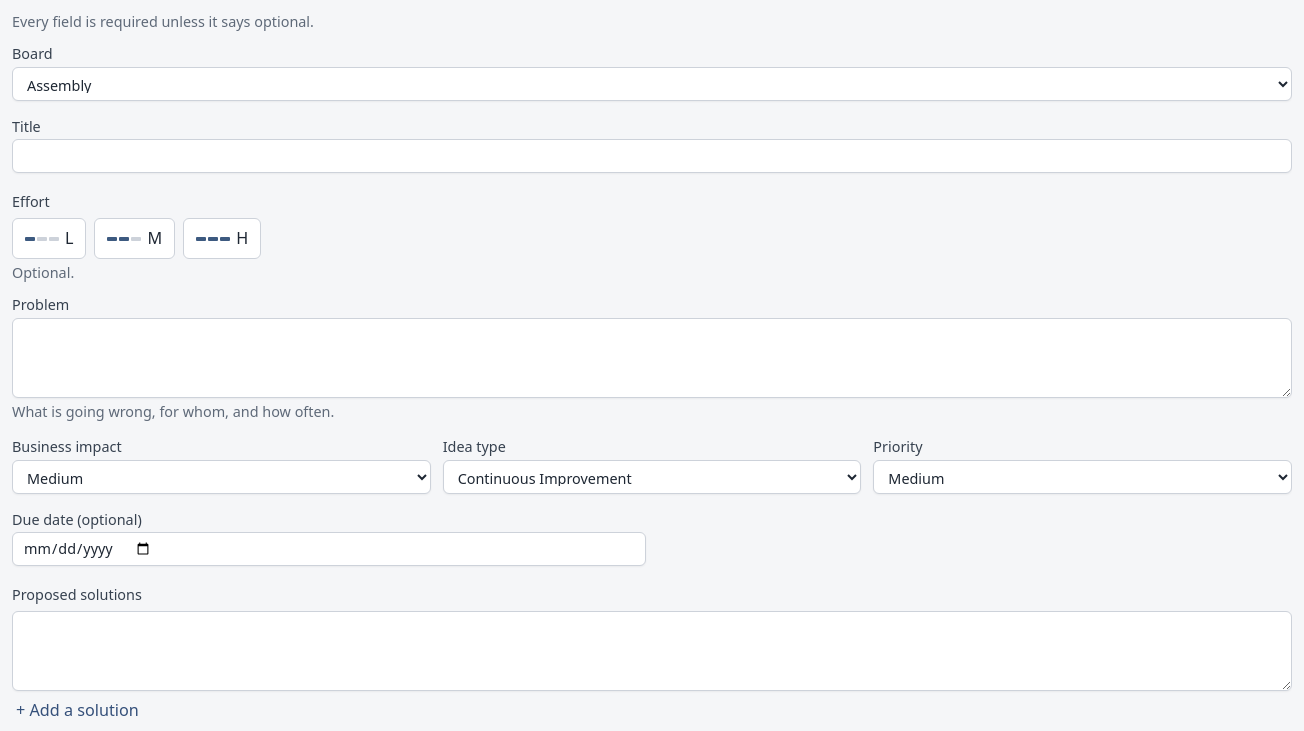
Test: IdeaForm Effort helper › follows the Board select as it changes
Select "Planning" in the dropdown labelled "Board" at x=652, y=84, box x1=12 y1=67 x2=1292 y2=101
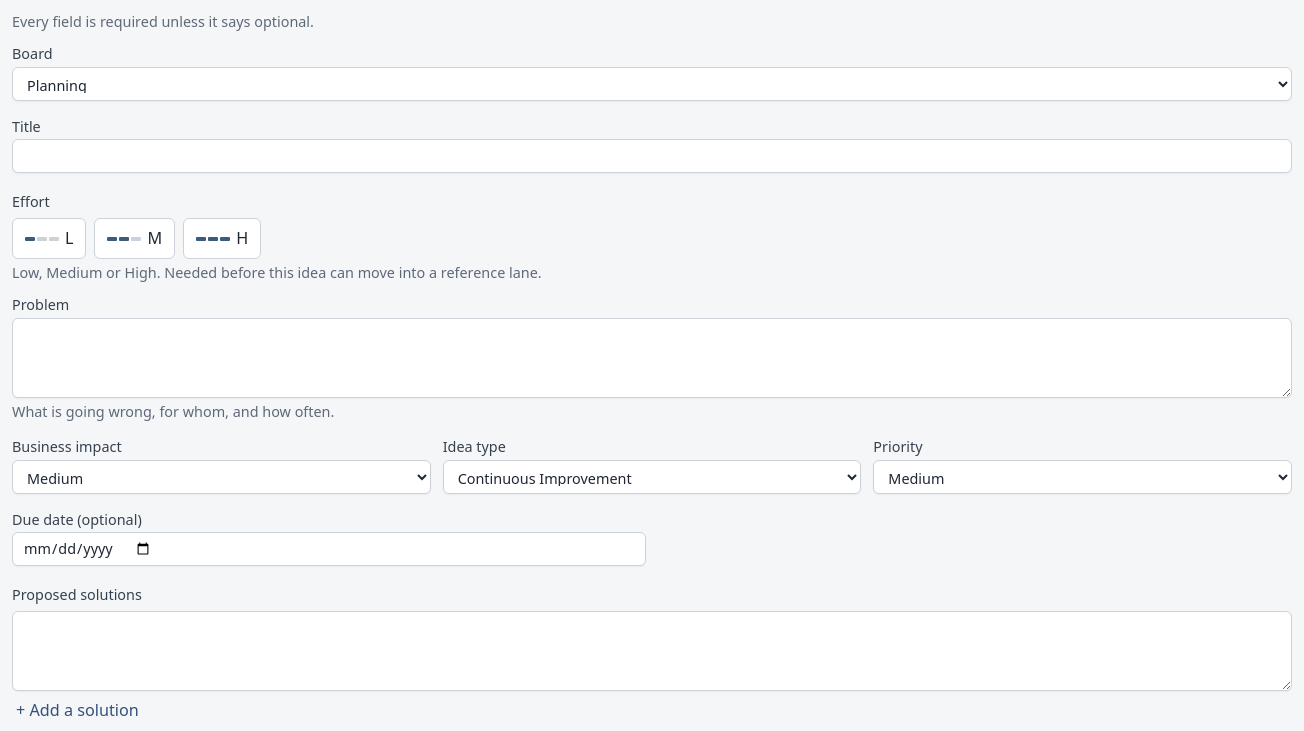
Expected: the text "Needed before this idea can move into a reference lane" is shown, x1=12 y1=263 x2=542 y2=282
Select "Assembly" in the dropdown labelled "Board" at x=652, y=84, box x1=12 y1=67 x2=1292 y2=101
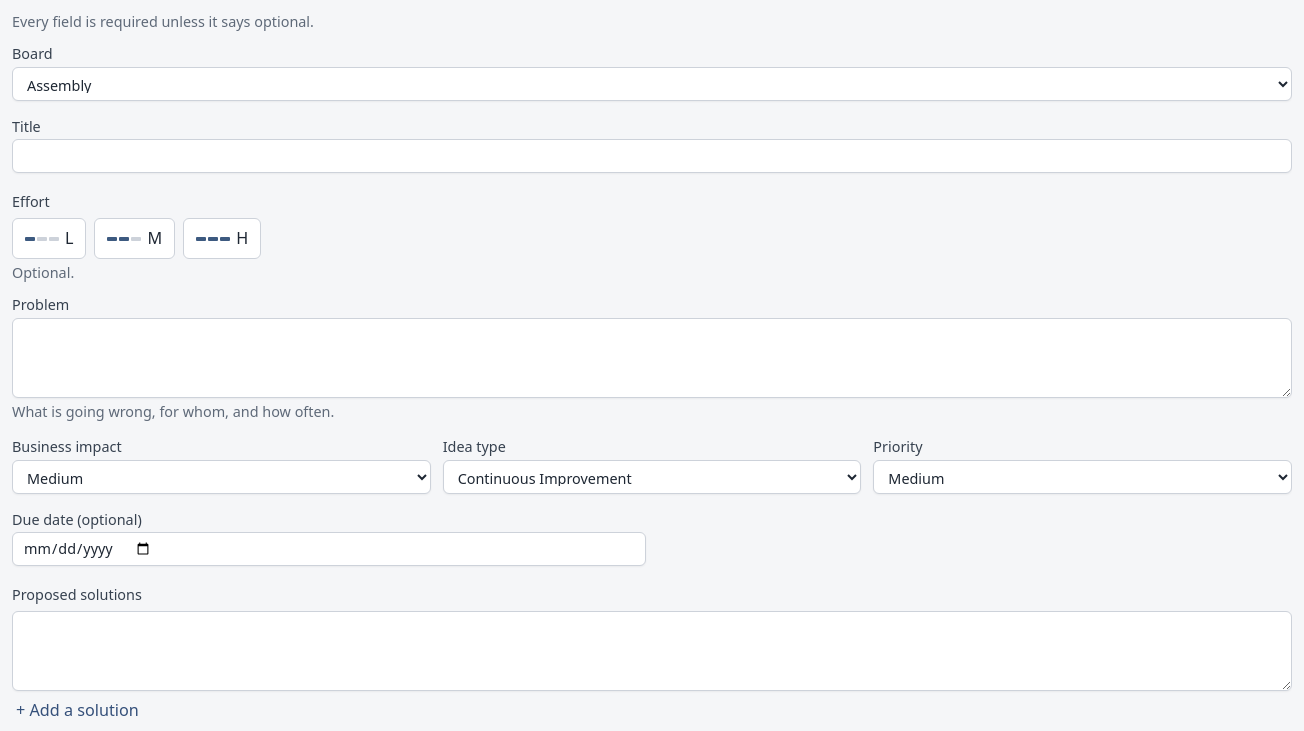
Expected: the text "Needed before this idea can move into a reference lane" is gone
